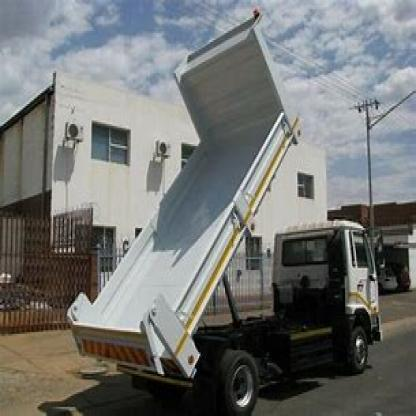dump_truck: (63, 9, 391, 394)
